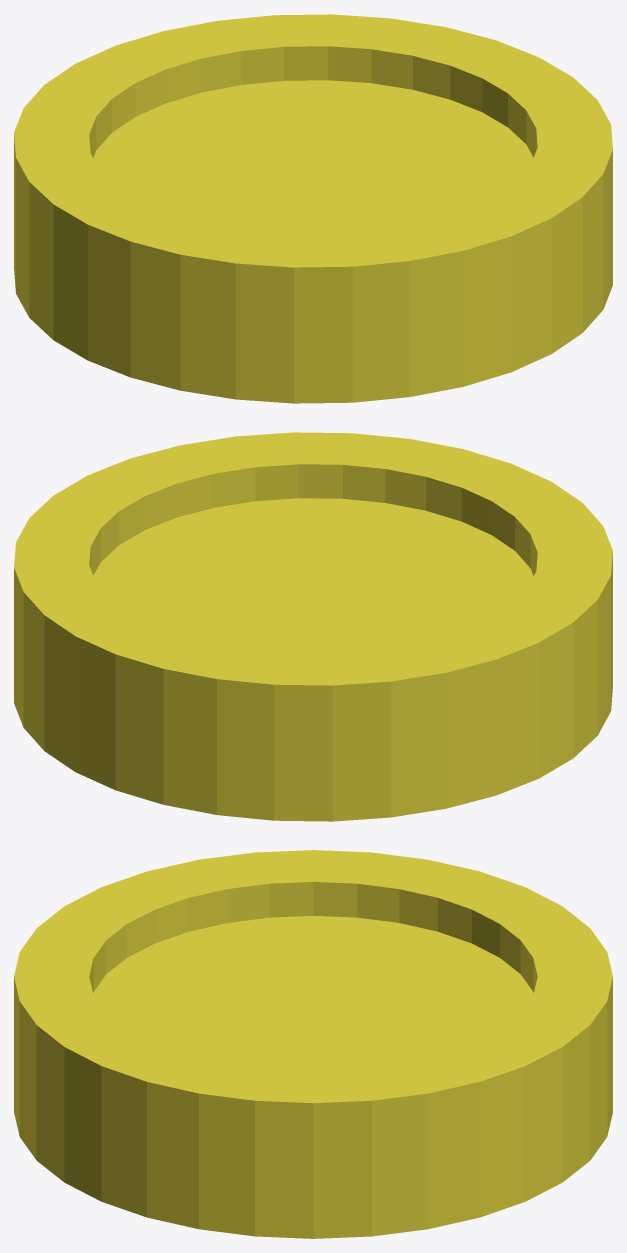
The model's file is coin.fbx.
3 views of the same model, one above another, from view 1: azimuth 30°, elevation 25°; view 2: azimuth 150°, elevation 25°; view 3: azimuth 270°, elevation 25° (orthographic).
Parts seen in each view (by area): view 1: Cylinder; view 2: Cylinder; view 3: Cylinder.
Part boxes in pixels (x1=…): Cylinder: x1=14, y1=14, x2=612, y2=403; Cylinder: x1=14, y1=432, x2=612, y2=821; Cylinder: x1=14, y1=850, x2=612, y2=1238.
Size of the model in its own units: 40 by 10 by 40.
